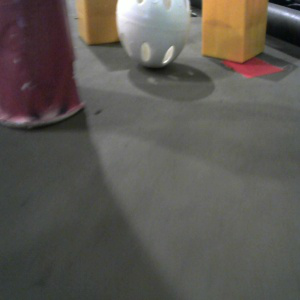middle: (1, 1, 87, 129)
